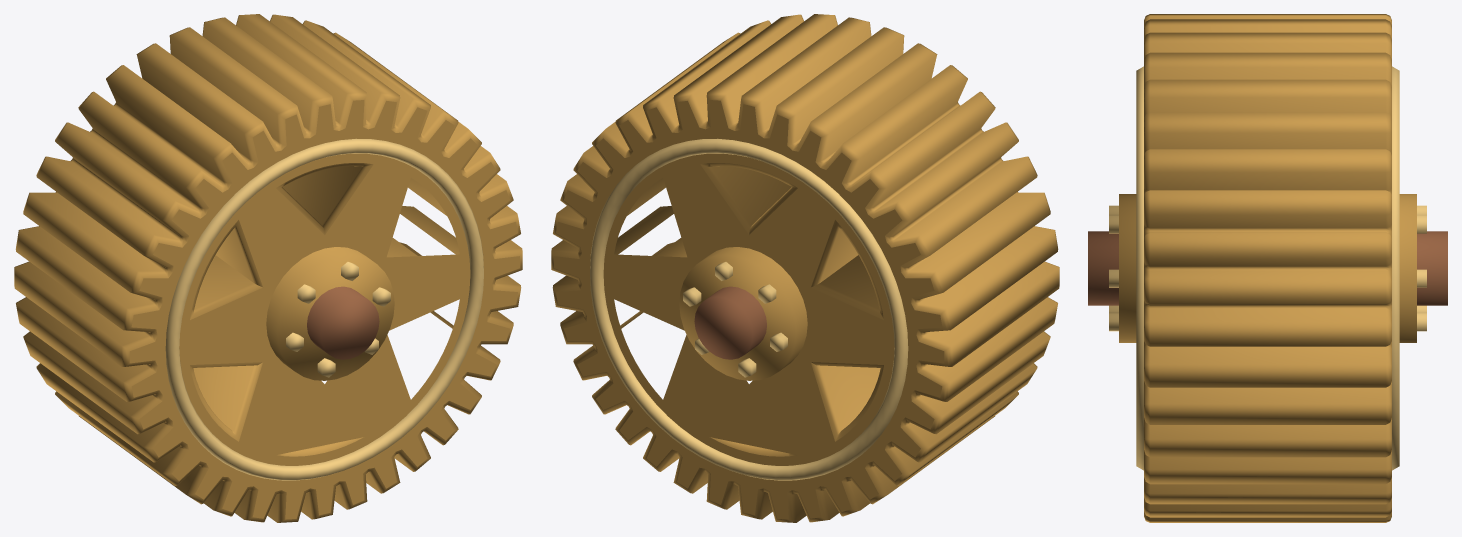
Rendered from gear-36.glb.
3 views of the same model, side by side, from view 1: azimuth 30°, elevation 25°; view 2: azimuth 150°, elevation 25°; view 3: azimuth 270°, elevation 25° (orthographic). The views are drawn at different scales.
Parts seen in each view (by area): view 1: gear; view 2: gear; view 3: gear.
Boxes of the visible parts, x1,y1,x2,y2 form: gear: (14, 14, 522, 522); gear: (551, 14, 1059, 522); gear: (1088, 14, 1447, 522).
Bounding box in the file's own units: 2.05 × 2.05 × 1.45.
